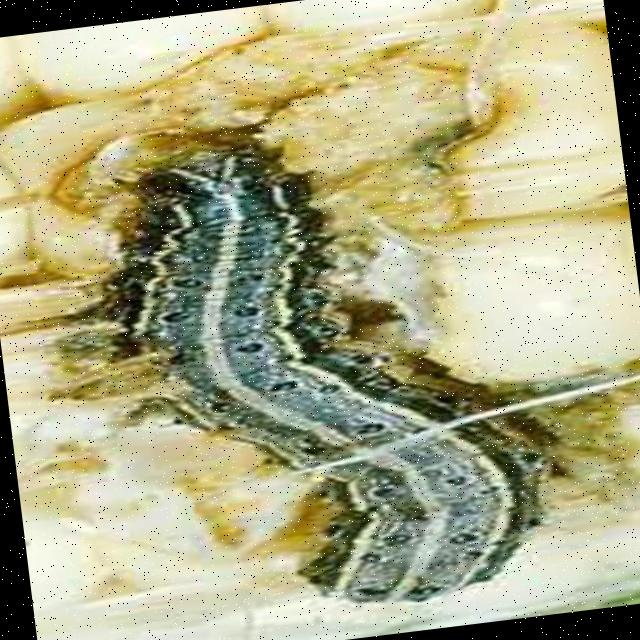worm: (22, 110, 574, 640)
